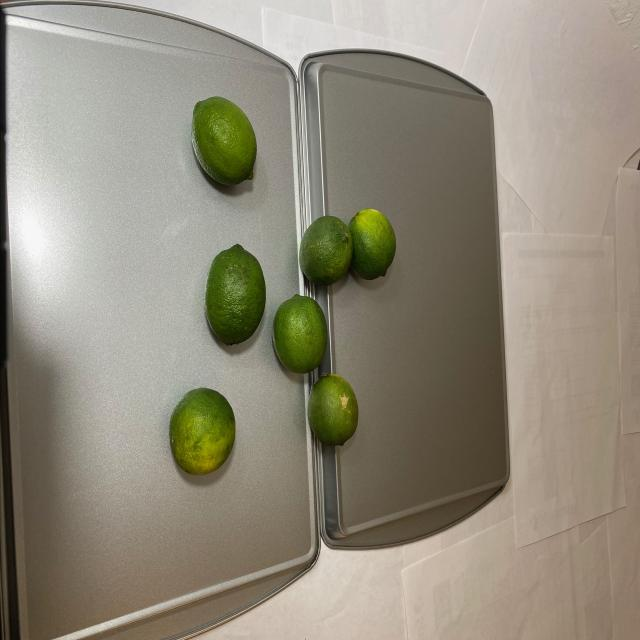lemon: (170, 210, 400, 481), (186, 91, 259, 189)
